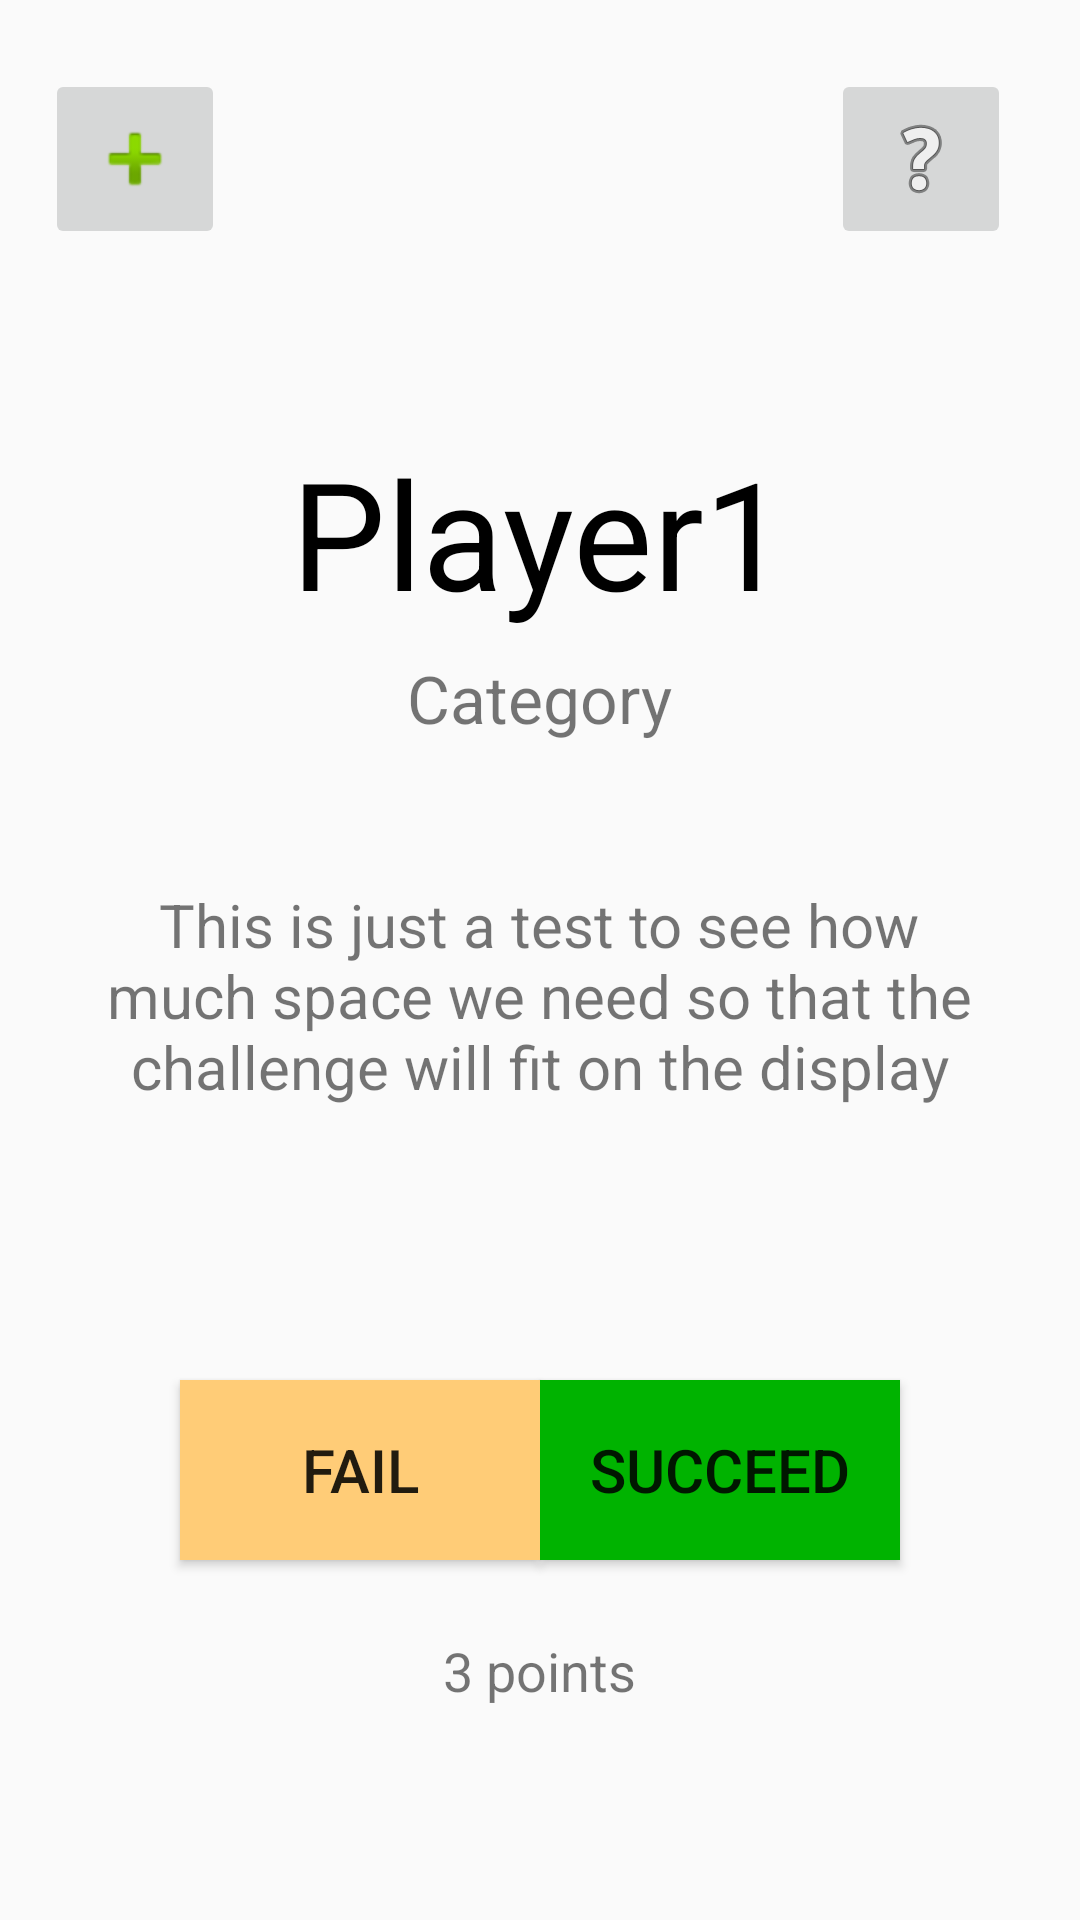

Screen size 1080 × 1920. Icon name, then its box in pixels as (x1, y1, x2, y2):
add: (57, 87, 213, 231)
help: (843, 87, 999, 231)
